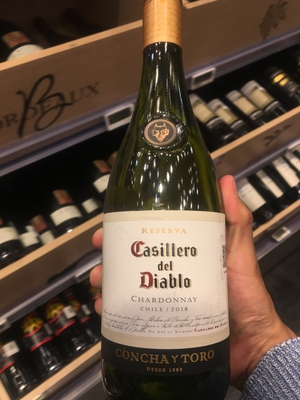casillero del diablo chardonnay: (83, 12, 240, 400)
